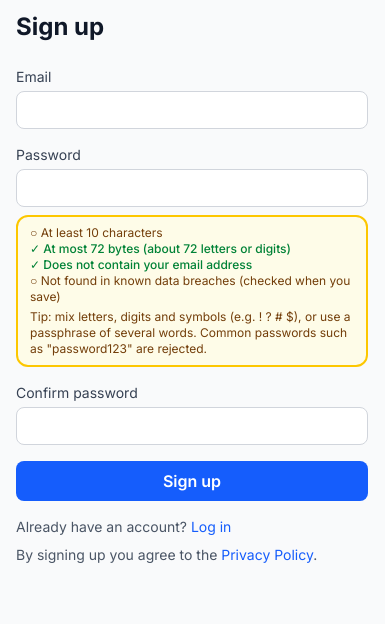
RegisterPage › shows the breached-password error under the password field
Step 1. Type "a@b.co" into the field with test id "register-email" → (192, 110), box [16,91,368,129]
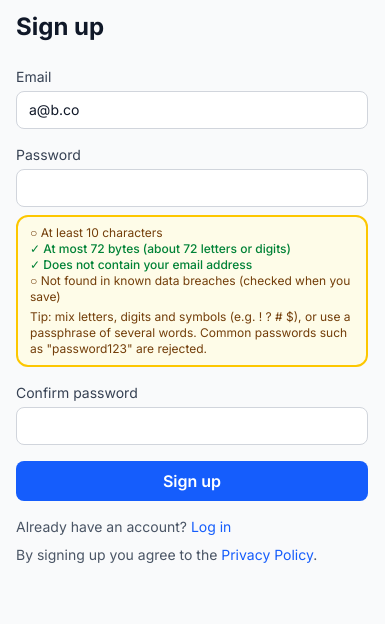
Step 2. Type "password-from-a-leak" into the password field with test id "register-password" → (192, 188), box [16,169,368,207]
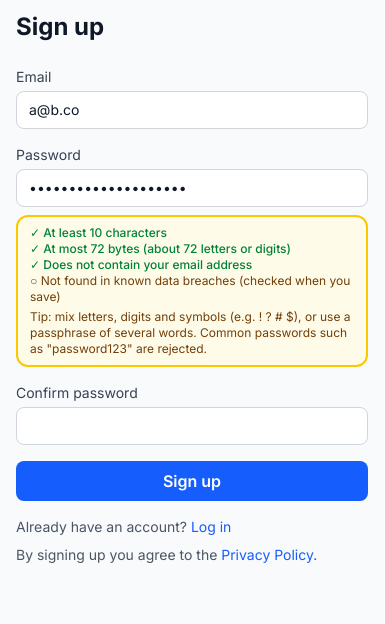
Step 3. Type "password-from-a-leak" into the password field with test id "register-password-confirm" → (192, 426), box [16,407,368,445]
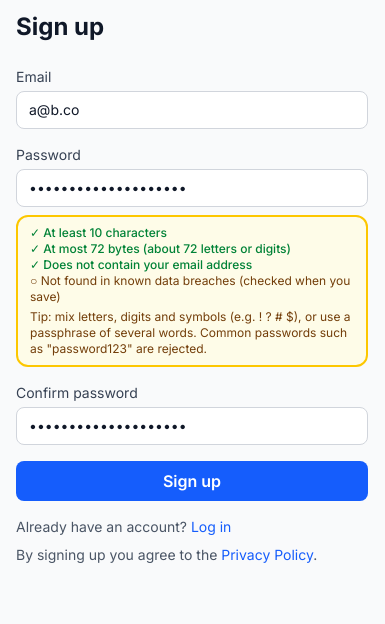
Step 4. Click the button with test id "register-submit" → (192, 481), box [16,461,368,501]
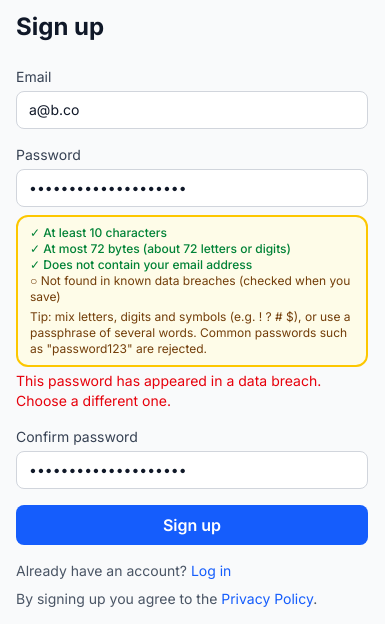
Now the message with test id "field-error-password" shows "appeared in a data breach", box [16,372,321,409]
